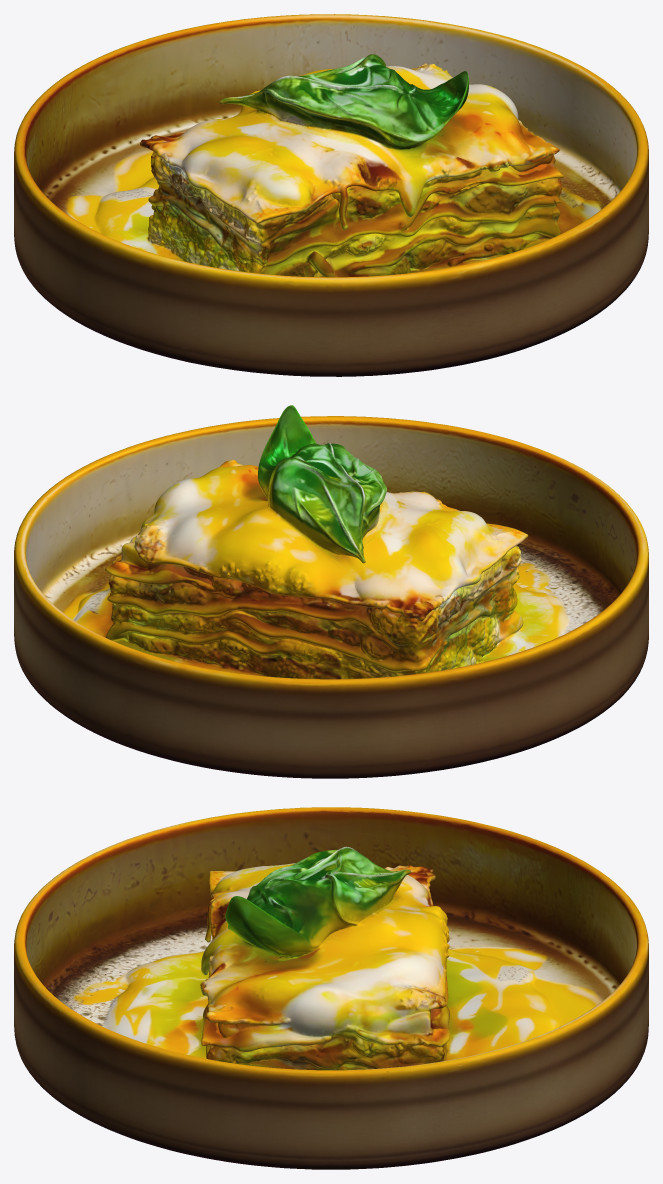
File: Pinocchio-Tiramisu.glb
The picture shows the model from 3 angles, top to bottom: view 1: azimuth 30°, elevation 25°; view 2: azimuth 150°, elevation 25°; view 3: azimuth 270°, elevation 25°; orthographic projection.
Bounding box in the file's own units: 0.5697 × 0.209 × 0.5697.
Materials: 1 (1 with a texture image).
